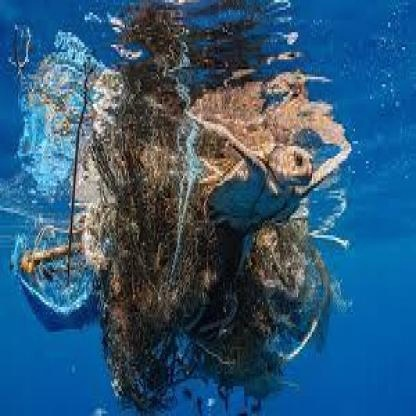net: (89, 62, 273, 386)
